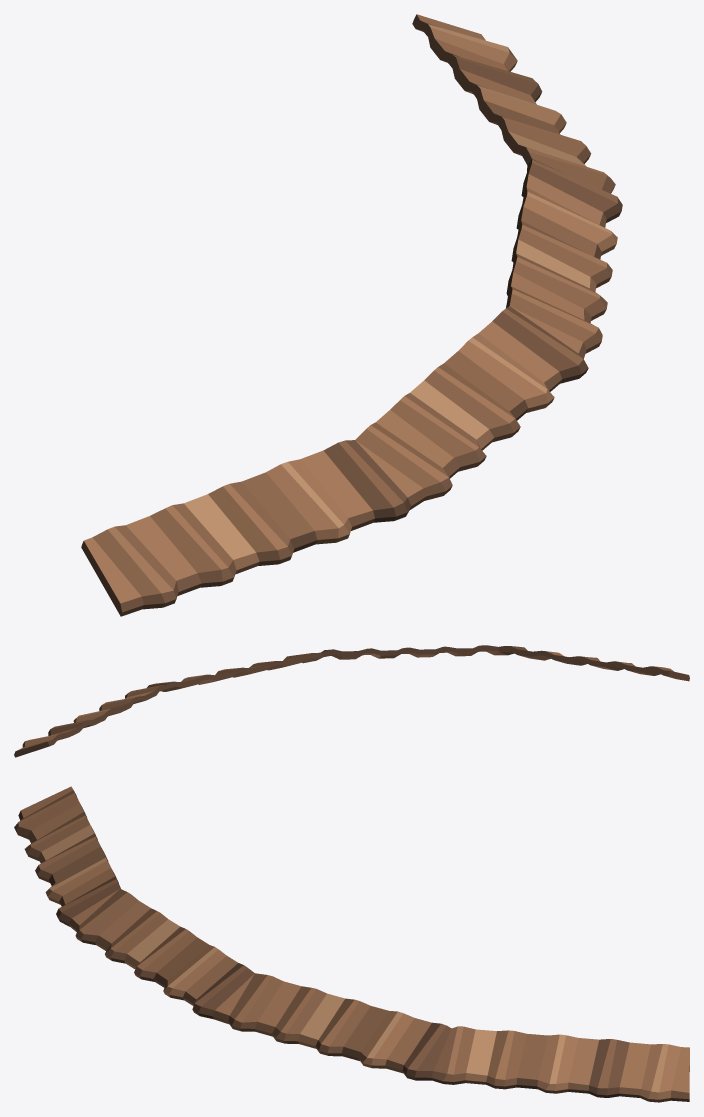
The model's file is SM_Bld_Roof_Dome_L_Trim_02.fbx.
3 views of the same model, one above another, from view 1: azimuth 30°, elevation 25°; view 2: azimuth 150°, elevation 25°; view 3: azimuth 270°, elevation 25° (orthographic). The views are drawn at different scales.
Parts seen in each view (by area): view 1: SM_Bld_Roof_Dome_L_Trim_02; view 2: SM_Bld_Roof_Dome_L_Trim_02; view 3: SM_Bld_Roof_Dome_L_Trim_02.
Boxes of the visible parts, bbox=[...] form: SM_Bld_Roof_Dome_L_Trim_02: bbox=[81, 14, 622, 616]; SM_Bld_Roof_Dome_L_Trim_02: bbox=[14, 645, 689, 757]; SM_Bld_Roof_Dome_L_Trim_02: bbox=[14, 786, 689, 1102].
Bounding box in the file's own units: 537 × 31.98 × 538.
